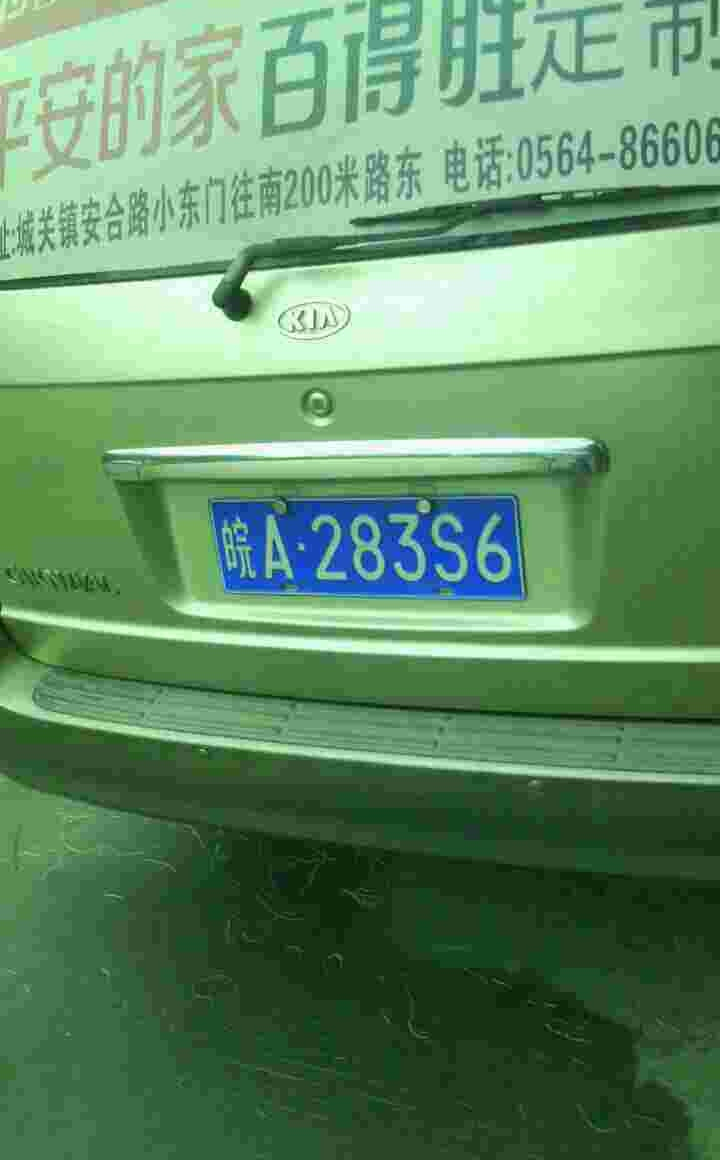license_plate: (204, 503, 542, 588)
